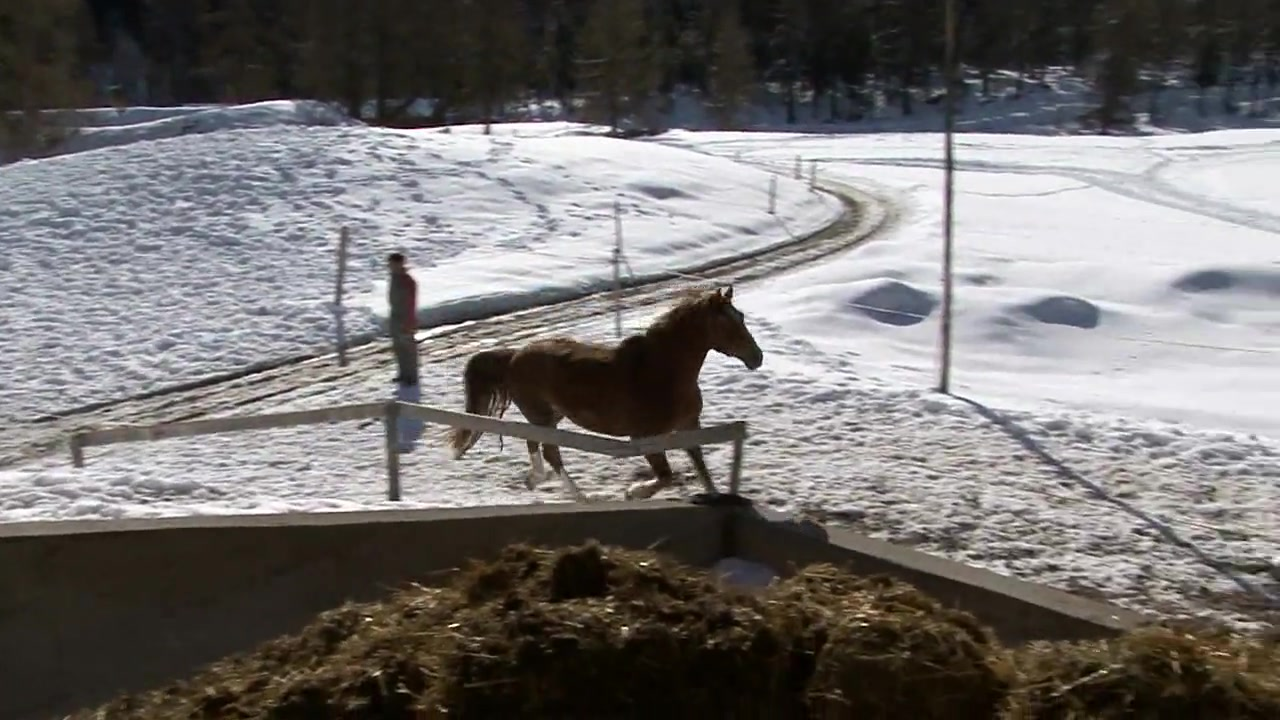horse: (450, 288, 765, 500)
